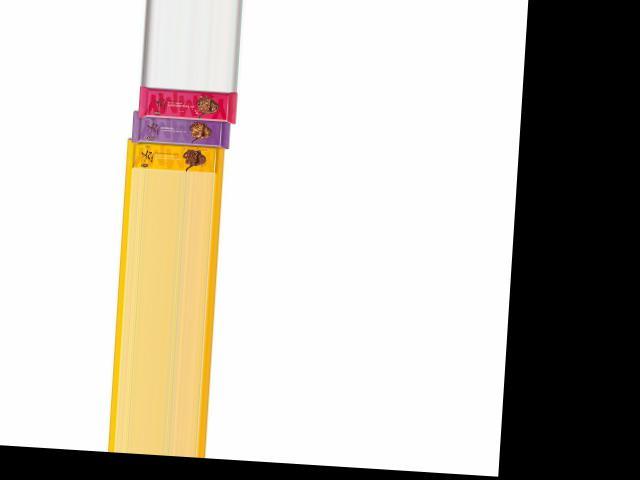chocolate: (133, 84, 243, 123)
